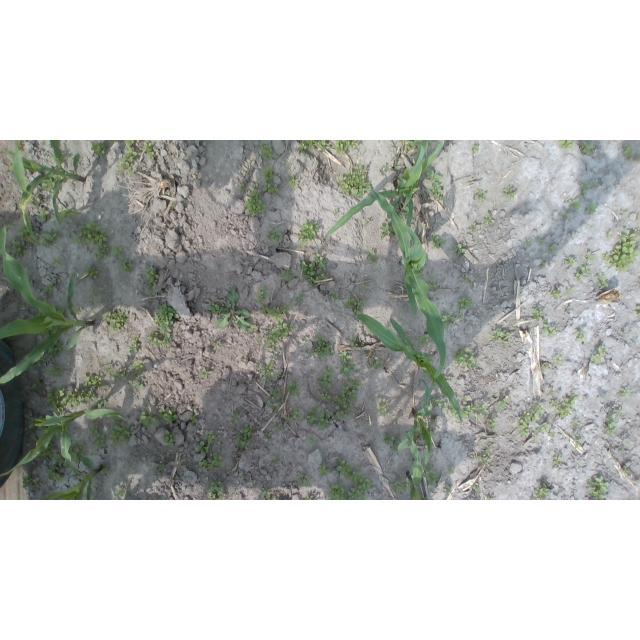Maize: (363, 188, 448, 384), (0, 224, 94, 387), (356, 311, 463, 421), (324, 140, 444, 238), (1, 402, 128, 477), (3, 141, 87, 244), (397, 376, 436, 468), (43, 453, 102, 500), (404, 470, 422, 500)
Weeds: (208, 284, 253, 331), (603, 228, 640, 272), (71, 223, 110, 261), (46, 387, 94, 416), (259, 323, 296, 357), (338, 164, 373, 198), (336, 381, 361, 420), (301, 252, 327, 285), (153, 302, 179, 334), (550, 394, 579, 419), (102, 310, 129, 335), (244, 187, 267, 216), (118, 141, 137, 174), (310, 333, 335, 358), (306, 403, 330, 429), (109, 417, 131, 445), (260, 304, 290, 324), (336, 460, 364, 481), (348, 478, 374, 500), (587, 476, 610, 500), (299, 221, 320, 247), (143, 266, 161, 296), (260, 363, 284, 385), (605, 408, 623, 436), (298, 141, 330, 156), (48, 454, 65, 482), (197, 431, 216, 456), (199, 453, 223, 472), (16, 227, 40, 246), (456, 348, 477, 369), (138, 407, 158, 429), (41, 228, 63, 248), (236, 424, 253, 449), (422, 462, 439, 486), (148, 332, 172, 349), (88, 424, 104, 449), (42, 175, 63, 194), (26, 413, 46, 432), (159, 406, 179, 425), (335, 141, 360, 156), (11, 239, 30, 258), (316, 366, 332, 388), (477, 443, 493, 465), (517, 412, 531, 437), (329, 482, 348, 500), (48, 340, 65, 360), (491, 328, 512, 344), (383, 432, 401, 450), (591, 346, 608, 365), (40, 439, 57, 458), (208, 480, 224, 500), (46, 362, 65, 378), (259, 141, 274, 161), (388, 477, 409, 491), (424, 166, 442, 182), (343, 296, 365, 309), (83, 374, 102, 389), (128, 334, 141, 355), (439, 312, 455, 329), (287, 404, 302, 422), (257, 284, 270, 304), (342, 363, 357, 380), (431, 231, 445, 249), (287, 379, 301, 397), (163, 429, 177, 447), (430, 182, 444, 200), (576, 265, 591, 281), (91, 140, 106, 156), (21, 475, 39, 488), (532, 487, 550, 500), (531, 404, 543, 423), (143, 142, 155, 161), (269, 389, 284, 404), (267, 230, 282, 245), (581, 141, 596, 156), (496, 397, 510, 413), (119, 259, 133, 275), (595, 272, 609, 288), (128, 378, 145, 391), (295, 474, 313, 486), (319, 463, 334, 477), (461, 404, 475, 419), (381, 225, 395, 240), (71, 444, 87, 457), (263, 182, 279, 195), (376, 401, 389, 416), (280, 268, 295, 281), (85, 265, 98, 280), (430, 398, 446, 410), (337, 351, 351, 364), (454, 243, 467, 257), (502, 188, 516, 201), (532, 307, 545, 321), (419, 333, 432, 347), (542, 324, 557, 336), (459, 298, 474, 310), (113, 368, 128, 380), (60, 210, 79, 219), (568, 196, 581, 209), (267, 404, 281, 416), (261, 489, 276, 500), (263, 166, 274, 181), (574, 329, 586, 342), (111, 245, 123, 258), (483, 212, 495, 225), (618, 388, 632, 399), (535, 424, 549, 435), (156, 459, 168, 471), (403, 140, 421, 148), (584, 252, 596, 264), (38, 210, 51, 221), (488, 418, 498, 432), (230, 410, 240, 424), (581, 181, 591, 195), (573, 433, 582, 448), (475, 189, 486, 201), (289, 176, 300, 188), (132, 361, 144, 372), (115, 488, 126, 500), (29, 197, 41, 208), (624, 143, 633, 157), (465, 277, 476, 288), (552, 454, 562, 466), (14, 140, 24, 152), (559, 140, 574, 148), (553, 354, 563, 365), (96, 398, 107, 408), (586, 202, 596, 213), (551, 288, 561, 299), (201, 367, 212, 377), (480, 404, 489, 416), (444, 484, 453, 496), (37, 353, 46, 365), (428, 278, 438, 288), (320, 392, 331, 401), (272, 457, 281, 468), (373, 360, 384, 369), (369, 252, 378, 263), (72, 307, 82, 316), (212, 340, 221, 350), (32, 381, 42, 390), (52, 258, 62, 267), (383, 163, 392, 173), (190, 415, 199, 424), (307, 436, 317, 444), (331, 292, 341, 300), (450, 409, 458, 418), (567, 257, 576, 265), (89, 290, 98, 298), (571, 421, 581, 428), (487, 492, 495, 500), (297, 293, 305, 301), (567, 285, 575, 293), (48, 284, 56, 292), (275, 424, 282, 433), (620, 210, 629, 217), (542, 364, 549, 373), (472, 483, 479, 492), (105, 364, 112, 373), (548, 245, 557, 252), (57, 308, 66, 315), (563, 212, 570, 221), (473, 144, 480, 153), (404, 206, 409, 218), (531, 436, 539, 443), (415, 428, 422, 436), (263, 432, 270, 440), (60, 152, 65, 163), (253, 326, 260, 333), (448, 467, 455, 474), (548, 388, 554, 396), (168, 204, 176, 210), (524, 239, 532, 245), (362, 284, 368, 292), (636, 304, 640, 316), (429, 428, 434, 437), (104, 467, 109, 476), (164, 189, 170, 196), (333, 209, 339, 216), (538, 237, 544, 244), (350, 335, 355, 343), (306, 496, 313, 501), (240, 184, 245, 191), (365, 220, 372, 225), (413, 187, 418, 194), (71, 154, 75, 162), (550, 432, 556, 437), (463, 396, 470, 400), (244, 356, 248, 363), (542, 262, 546, 268), (393, 163, 397, 169), (107, 140, 113, 144), (167, 286, 171, 291), (50, 156, 54, 161), (622, 445, 625, 451), (472, 224, 475, 230), (600, 396, 604, 400), (303, 338, 308, 341), (354, 310, 359, 313)
